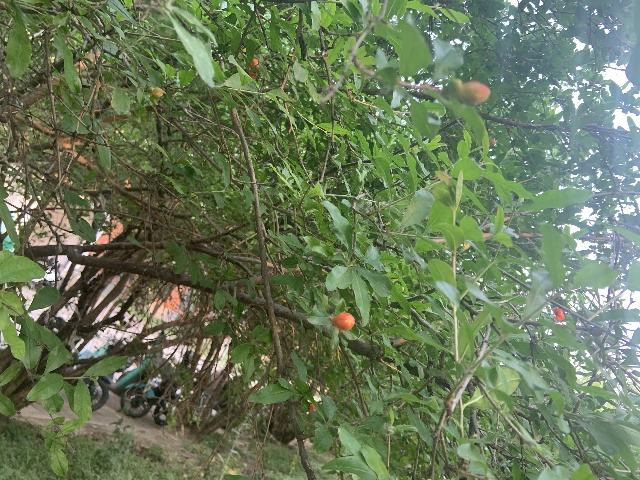bud: (456, 81, 490, 104), (330, 312, 354, 330)
flower: (552, 307, 564, 321)
